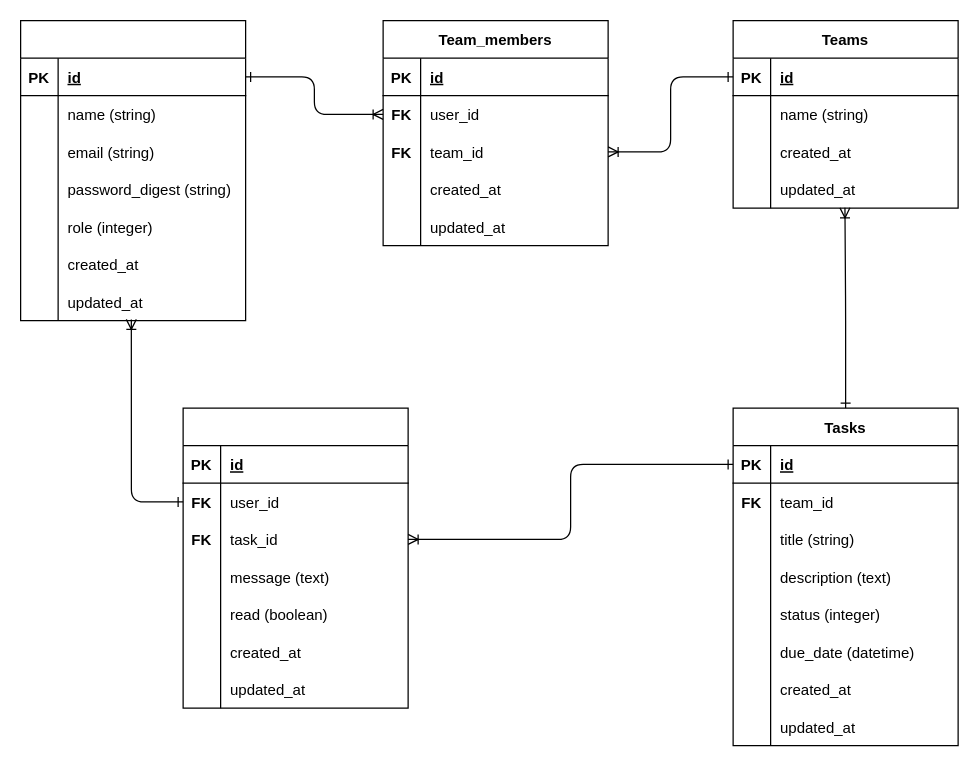
The diagram is 979 pixels wide and 766 high, and some of its shapes have lost their labels. Here are the shapes that lost their labels. From the top down, the box of each, then its label:
(19, 19, 246, 321): Users
(182, 407, 408, 708): Notifications
